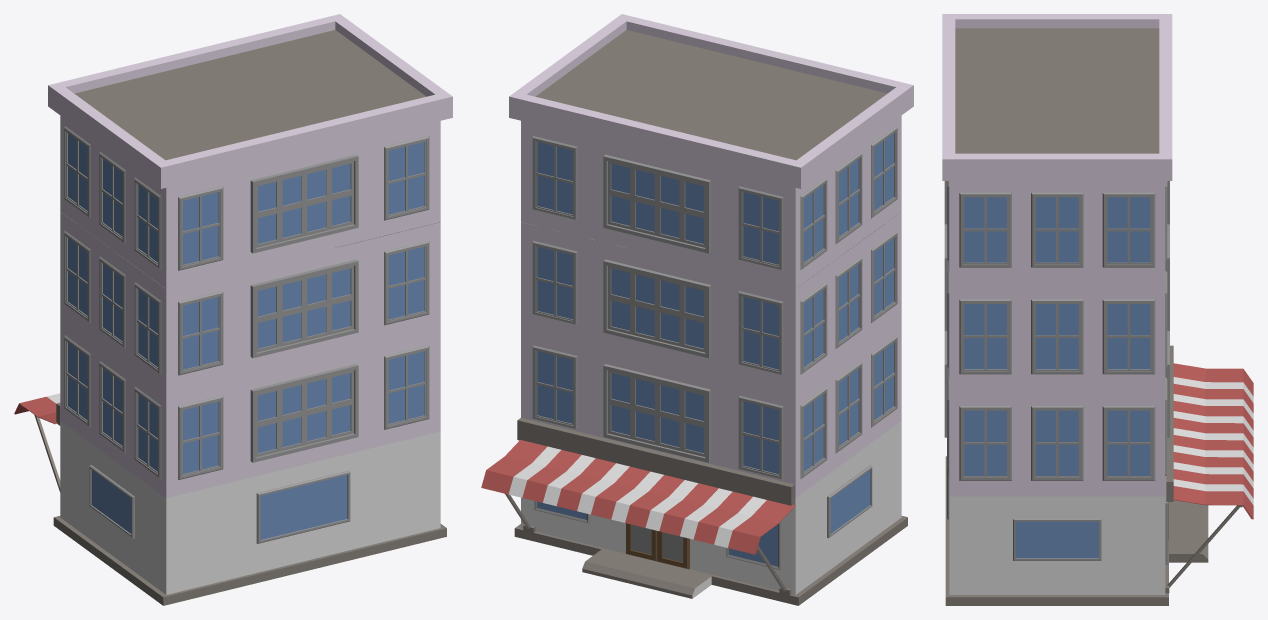
File: BUILDING-2.glb
The picture shows the model from 3 angles, left to right: view 1: azimuth 30°, elevation 25°; view 2: azimuth 150°, elevation 25°; view 3: azimuth 270°, elevation 25°; orthographic projection.
Parts seen in each view (by area): view 1: Plane.054; view 2: Plane.054; view 3: Plane.054.
Boxes of the visible parts, x1=… form: Plane.054: x1=14, y1=14, x2=452, y2=605; Plane.054: x1=481, y1=14, x2=913, y2=605; Plane.054: x1=942, y1=14, x2=1253, y2=605.
Bounding box in the file's own units: 3.18 × 4.58 × 2.88.
